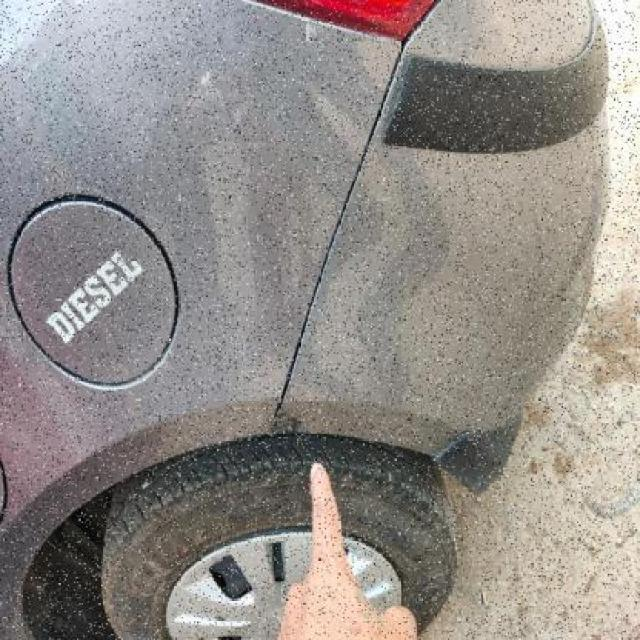rear-bumper-dent: (252, 202, 604, 550)
